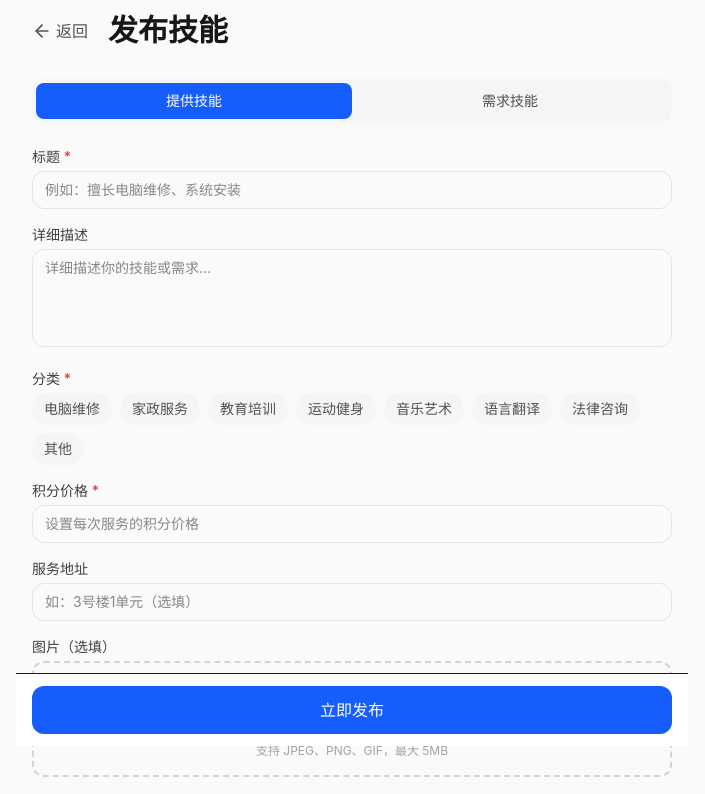
it: SkillExchange/Create 发布技能表单 › offer 类型显示积分价格输入框，切换到 request 类型隐藏
Expected: the number field with placeholder "设置每次服务的积分价格" is shown, [32,504,672,542]
# 切换到 request
Click the button "需求技能": (510, 100) [352,82,668,118]
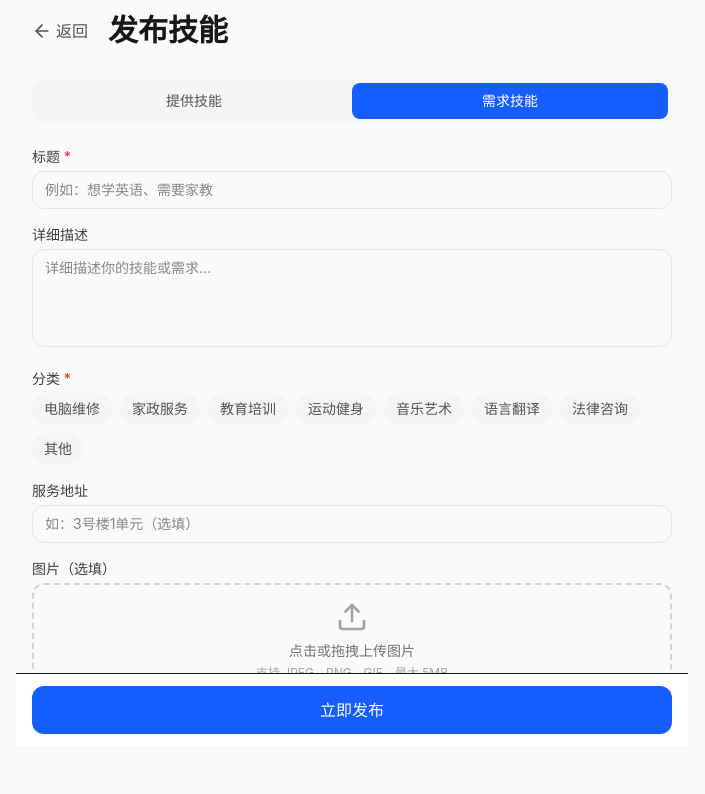
Result: the number field with placeholder "设置每次服务的积分价格" is gone
